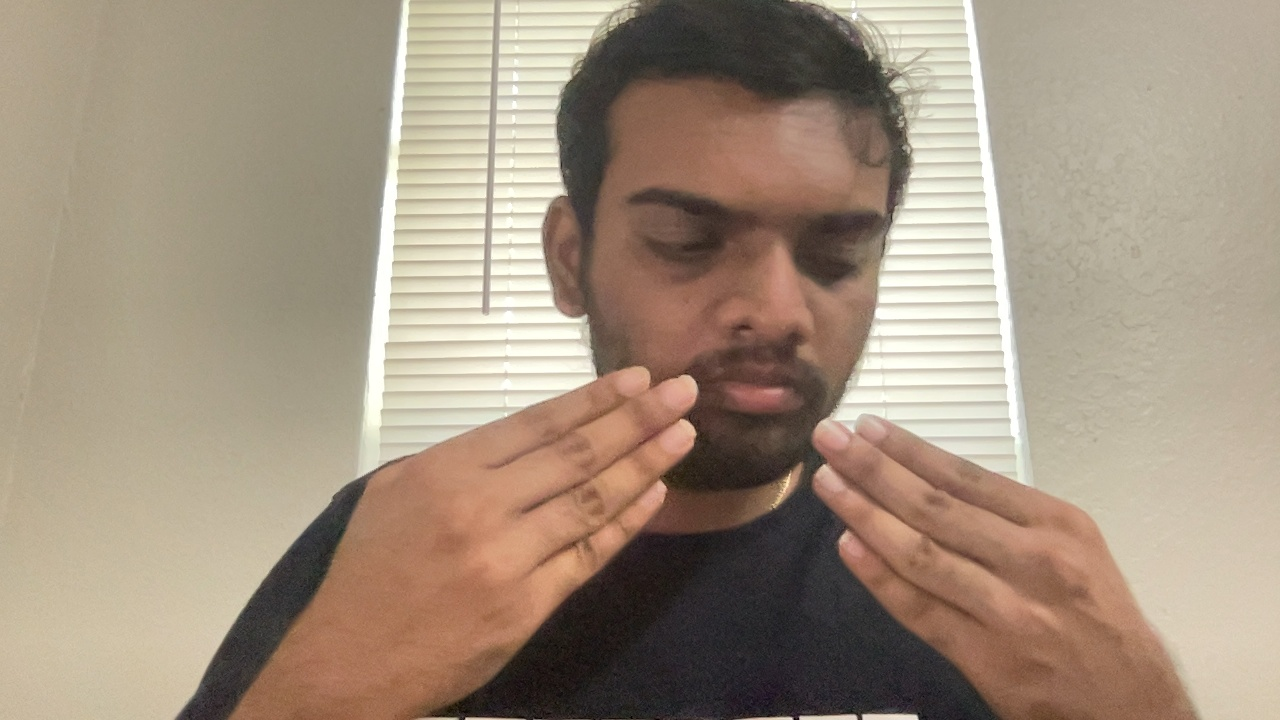thanks: (238, 363, 1213, 718)
